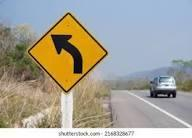Left Curve Ahead: (26, 52, 86, 111)
